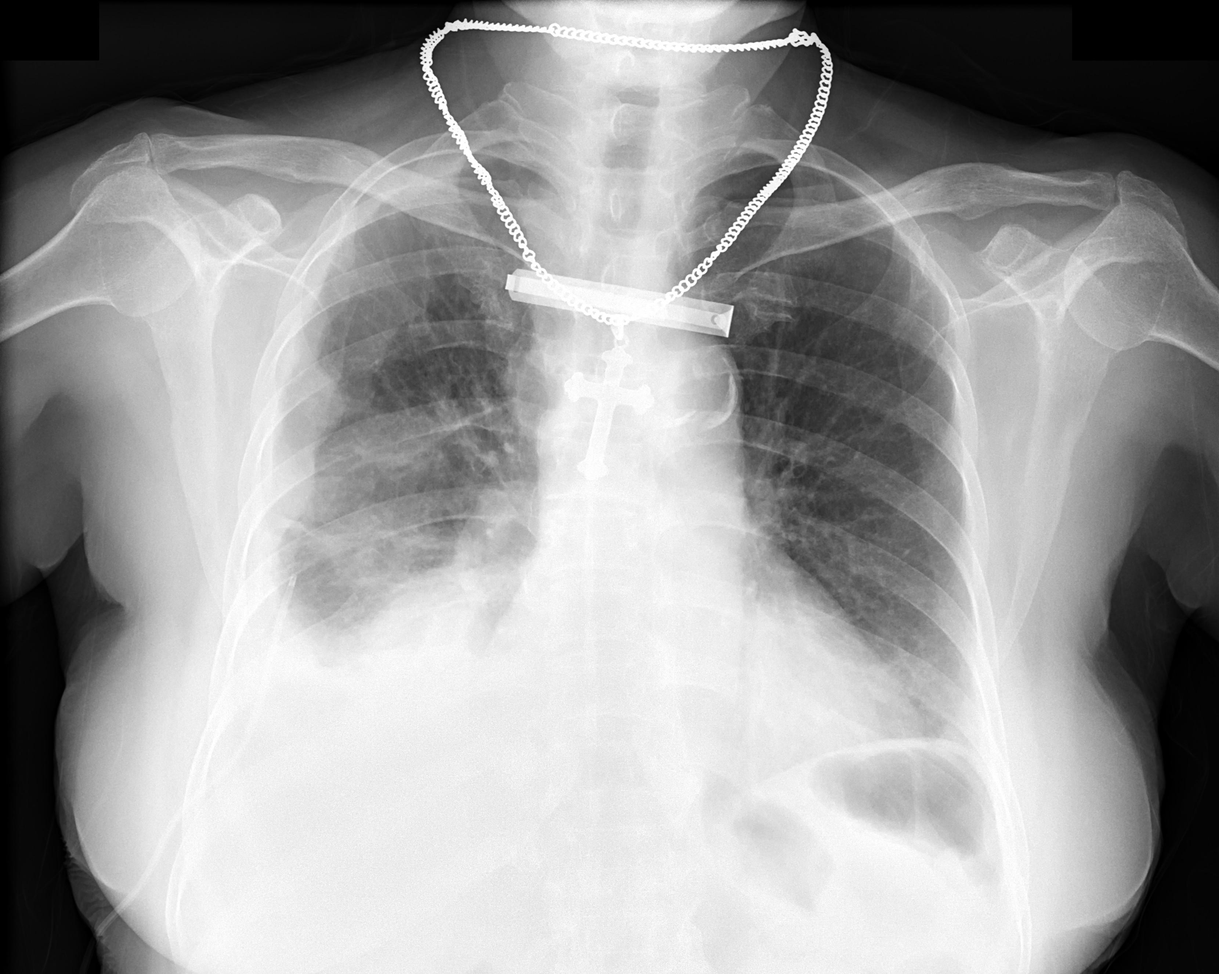Aortic enlargement: (626, 326, 737, 443)
Pleural thickening: (216, 621, 340, 719)
